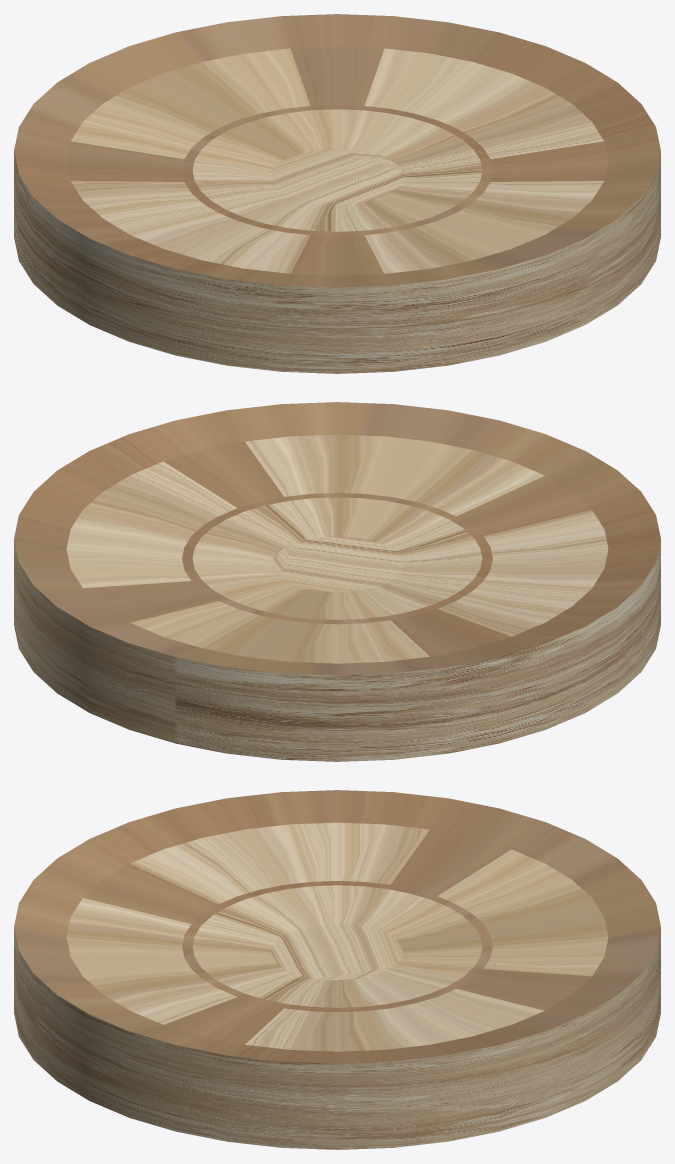
The model's file is crossing2.FBX.
3 renders of one model, top to bottom at view 1: azimuth 30°, elevation 25°; view 2: azimuth 150°, elevation 25°; view 3: azimuth 270°, elevation 25°, orthographic.
Parts seen in each view (by area): view 1: Cylinder001; view 2: Cylinder001; view 3: Cylinder001.
Part boxes in pixels (left/top/right/bottom): Cylinder001: left=14, top=14, right=660, bottom=373; Cylinder001: left=14, top=402, right=660, bottom=761; Cylinder001: left=14, top=790, right=660, bottom=1149.
Size of the model in its own units: 124 by 18.23 by 124.
Materials: 2 (2 with a texture image).
